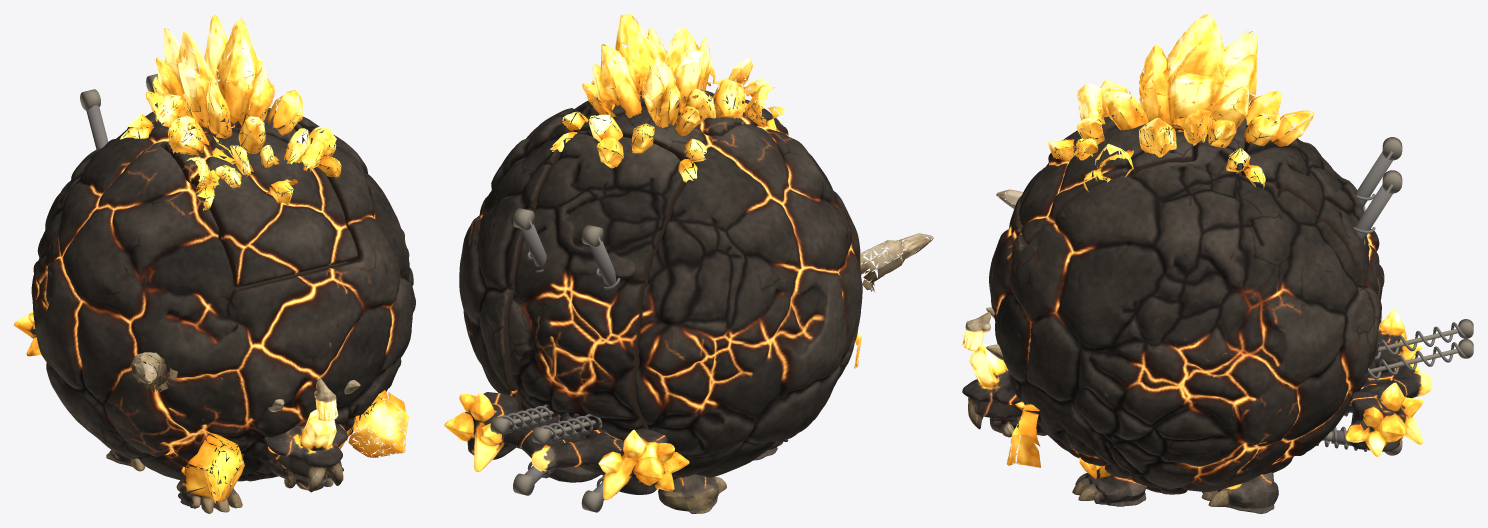
Rendered from monolith-ball.glb.
The picture shows the model from 3 angles, left to right: view 1: azimuth 30°, elevation 25°; view 2: azimuth 150°, elevation 25°; view 3: azimuth 270°, elevation 25°; orthographic projection. The views are drawn at different scales.
Parts seen in each view (by area): view 1: shell-mesh, crown-mesh, band_a-mesh, beast-mesh, gems-mesh, springs-mesh, struts-mesh; view 2: shell-mesh, band_b-mesh, crown-mesh, beast-mesh, springs-mesh, struts-mesh, gems-mesh, band_a-mesh; view 3: shell-mesh, crown-mesh, beast-mesh, band_b-mesh, band_a-mesh, springs-mesh, struts-mesh, gems-mesh.
Boxes of the visible parts, <box> form: shell-mesh: <box>31,103,415,482</box>; crown-mesh: <box>120,14,341,210</box>; band_a-mesh: <box>164,112,357,287</box>; beast-mesh: <box>14,311,360,513</box>; gems-mesh: <box>130,352,408,503</box>; springs-mesh: <box>84,85,163,149</box>; struts-mesh: <box>80,74,158,110</box>; shell-mesh: <box>459,97,862,477</box>; band_b-mesh: <box>507,133,690,479</box>; crown-mesh: <box>550,14,784,182</box>; beast-mesh: <box>444,392,788,513</box>; springs-mesh: <box>496,220,620,503</box>; struts-mesh: <box>490,208,603,512</box>; gems-mesh: <box>854,233,933,368</box>; band_a-mesh: <box>615,90,782,136</box>; shell-mesh: <box>989,104,1373,494</box>; crown-mesh: <box>1048,14,1314,191</box>; beast-mesh: <box>962,307,1431,513</box>; band_b-mesh: <box>1241,115,1384,472</box>; band_a-mesh: <box>1019,105,1193,244</box>; springs-mesh: <box>1316,151,1465,451</box>; struts-mesh: <box>1322,137,1473,455</box>; gems-mesh: <box>996,189,1040,467</box>.
Bounding box in the file's own units: 2.04 × 2.51 × 2.61.
4 materials, 2 textured.
